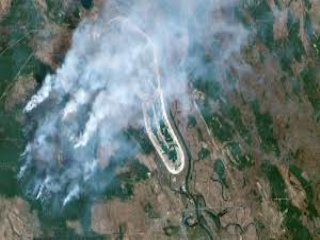smoke: (17, 13, 150, 204)
